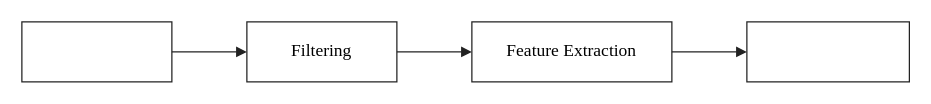
This 931x104 diagram has some shape labels left out. The centre of each missing label's shape, as x and y in pixels:
Classification: [827,51]
Signal: [96,51]
